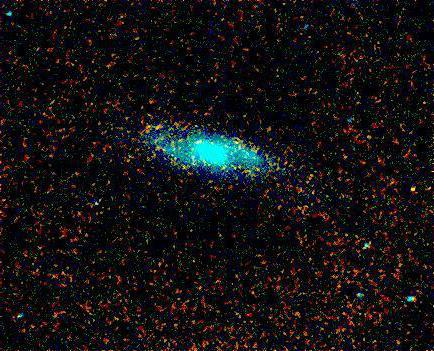star: (398, 175, 428, 205)
